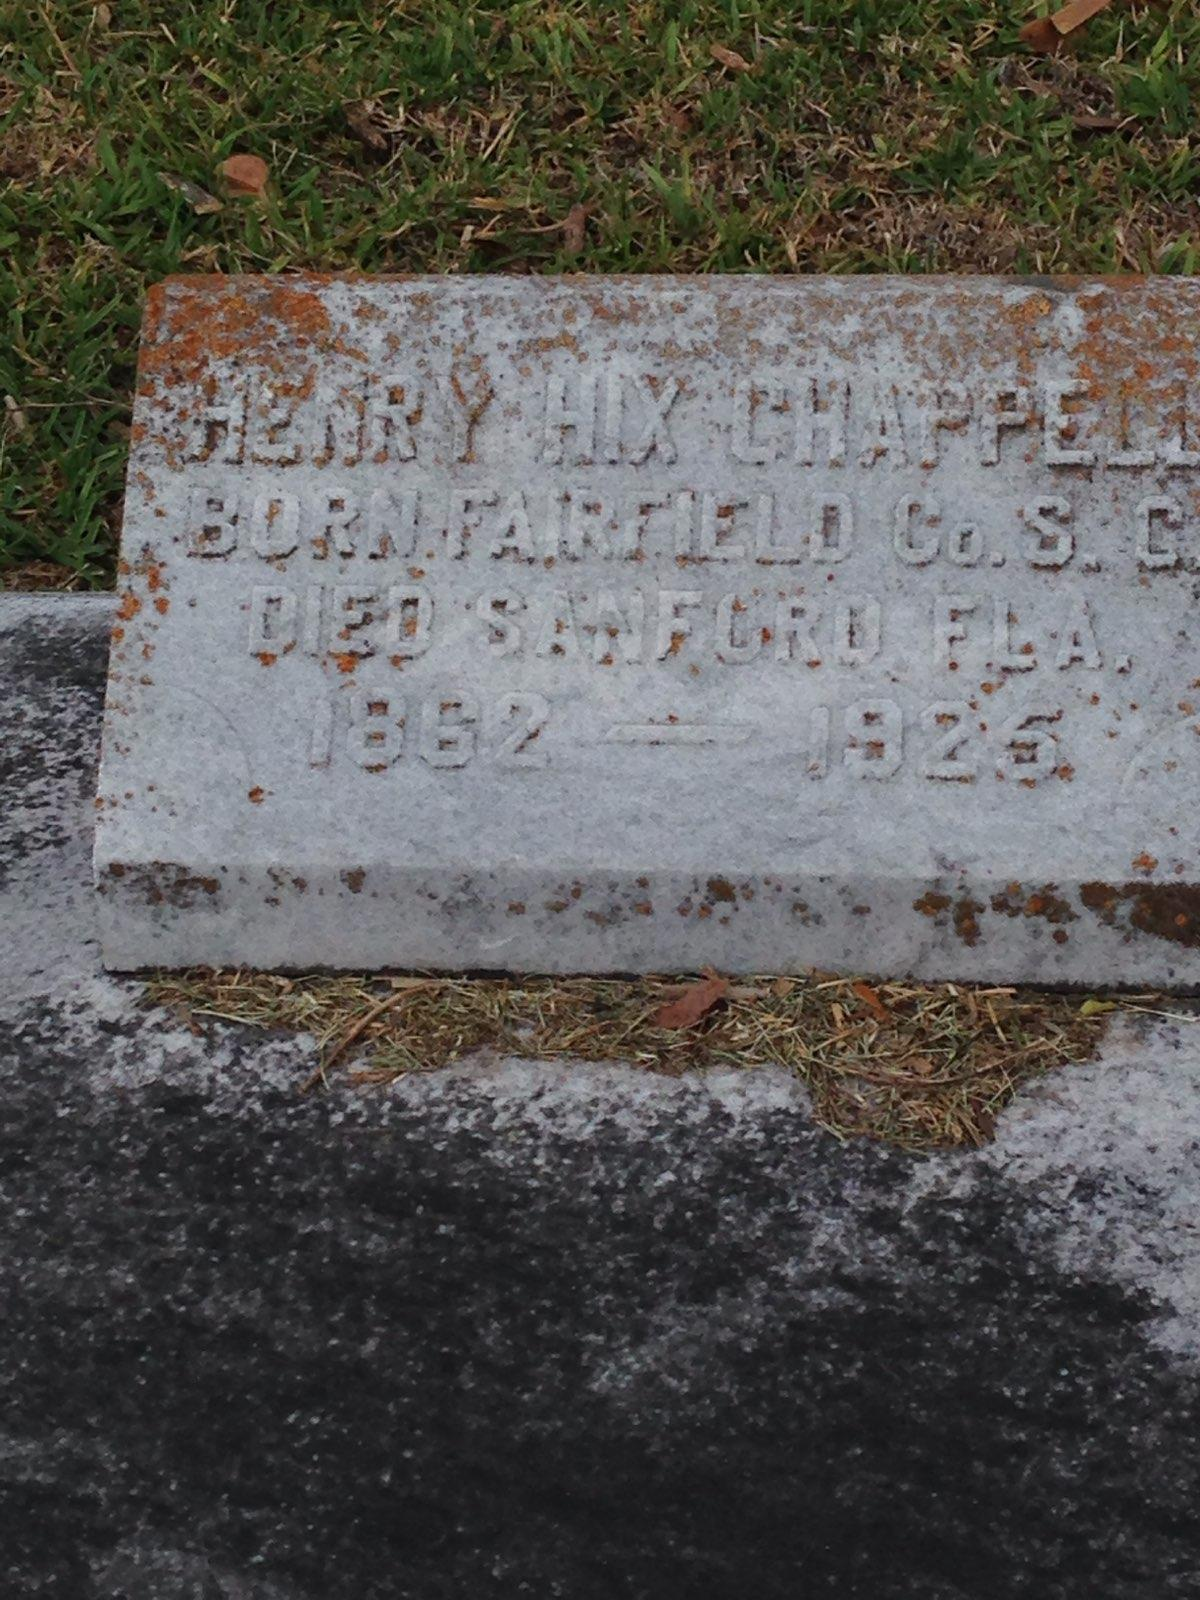slant: (83, 271, 1200, 984)
